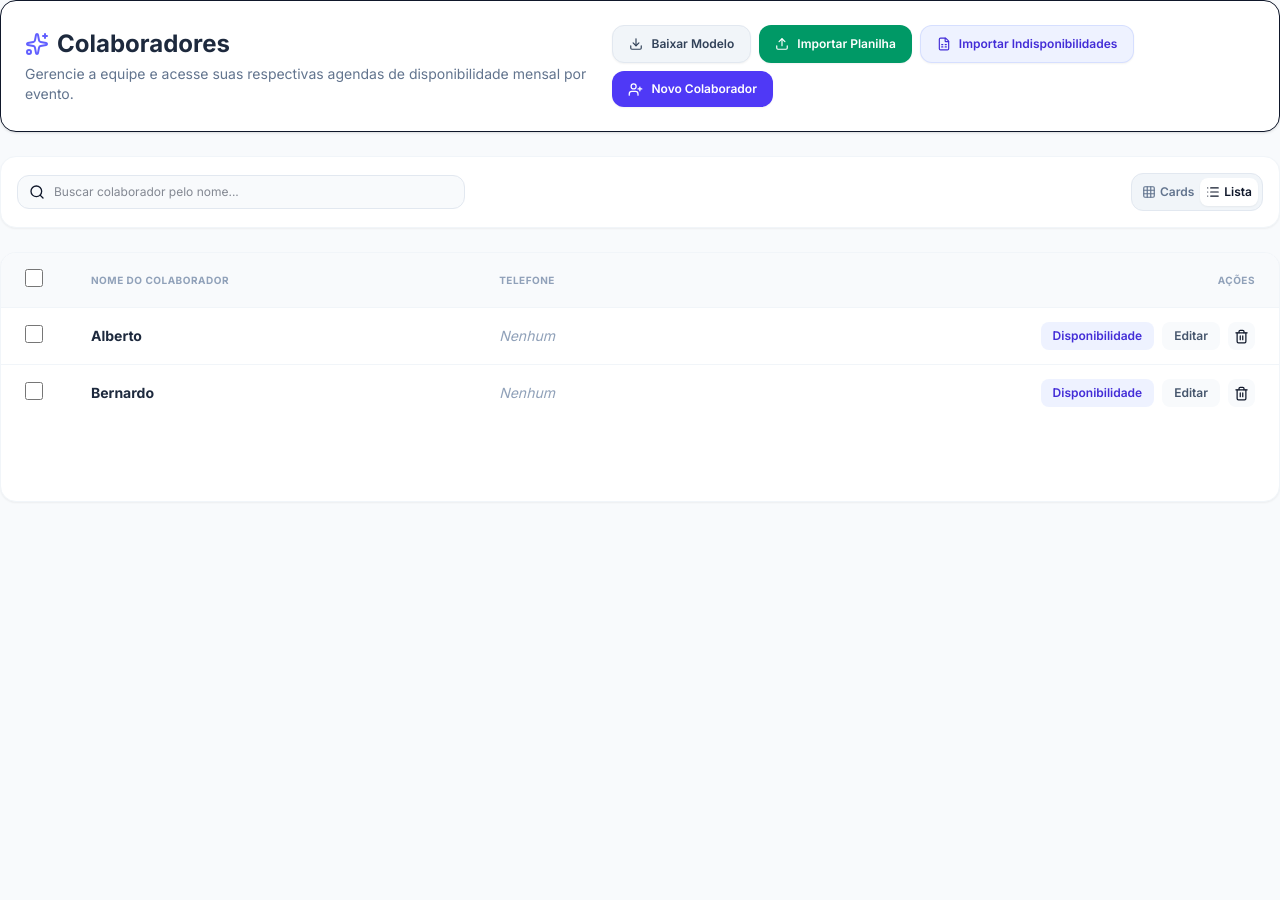
Colaboradores Component › deve ordenar cronologicamente os eventos no modal de edicao em lote na aba disponibilidade
Click the checkbox next to "Nome do Colaborador" at (34, 278), box [25,269,43,287]
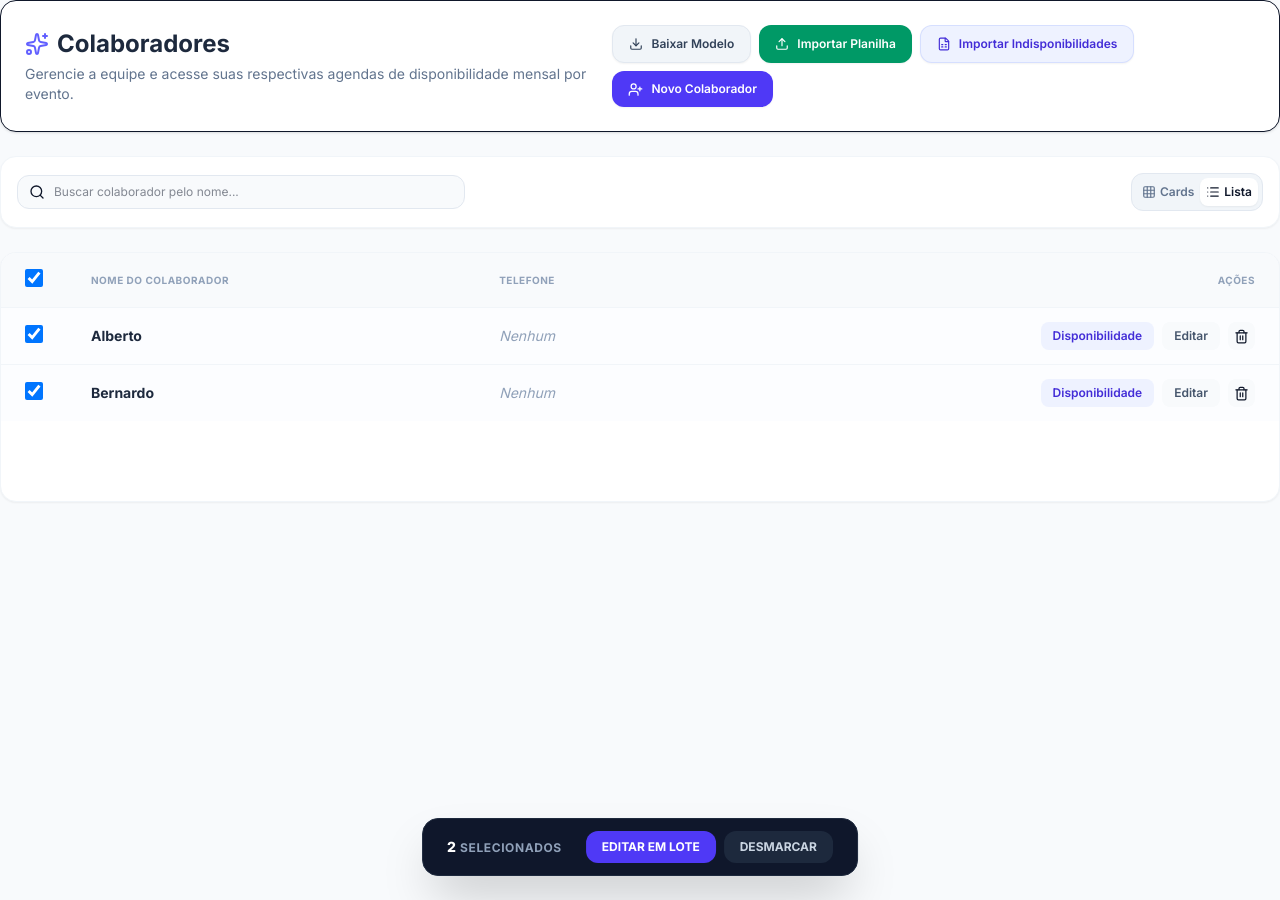
# Abrir modal de edição em lote
Click the button "Editar em Lote" at (651, 847), box [586,831,716,863]
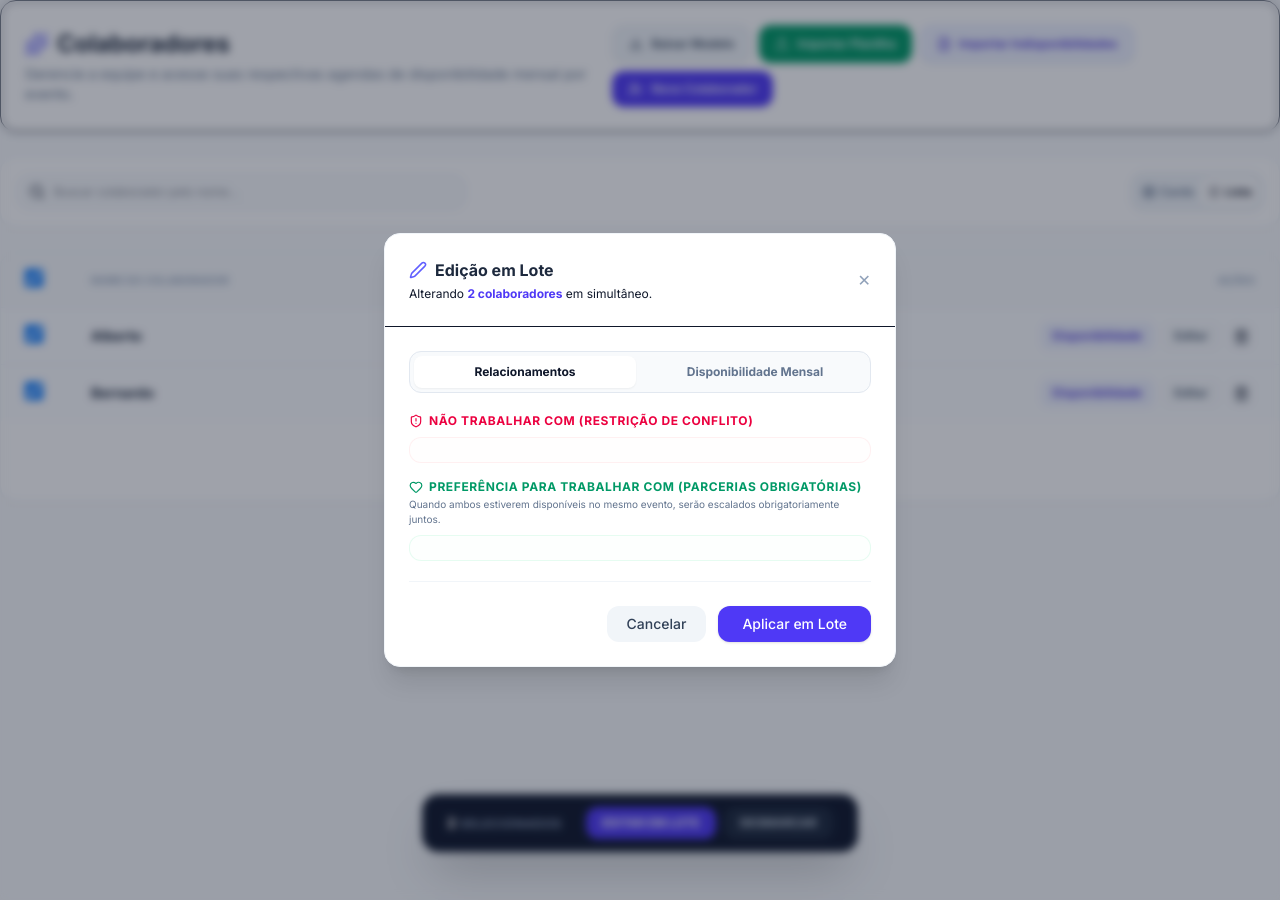
# Mudar para aba "Disponibilidade Mensal"
Click the button "Disponibilidade Mensal" at (755, 372), box [644,356,866,388]
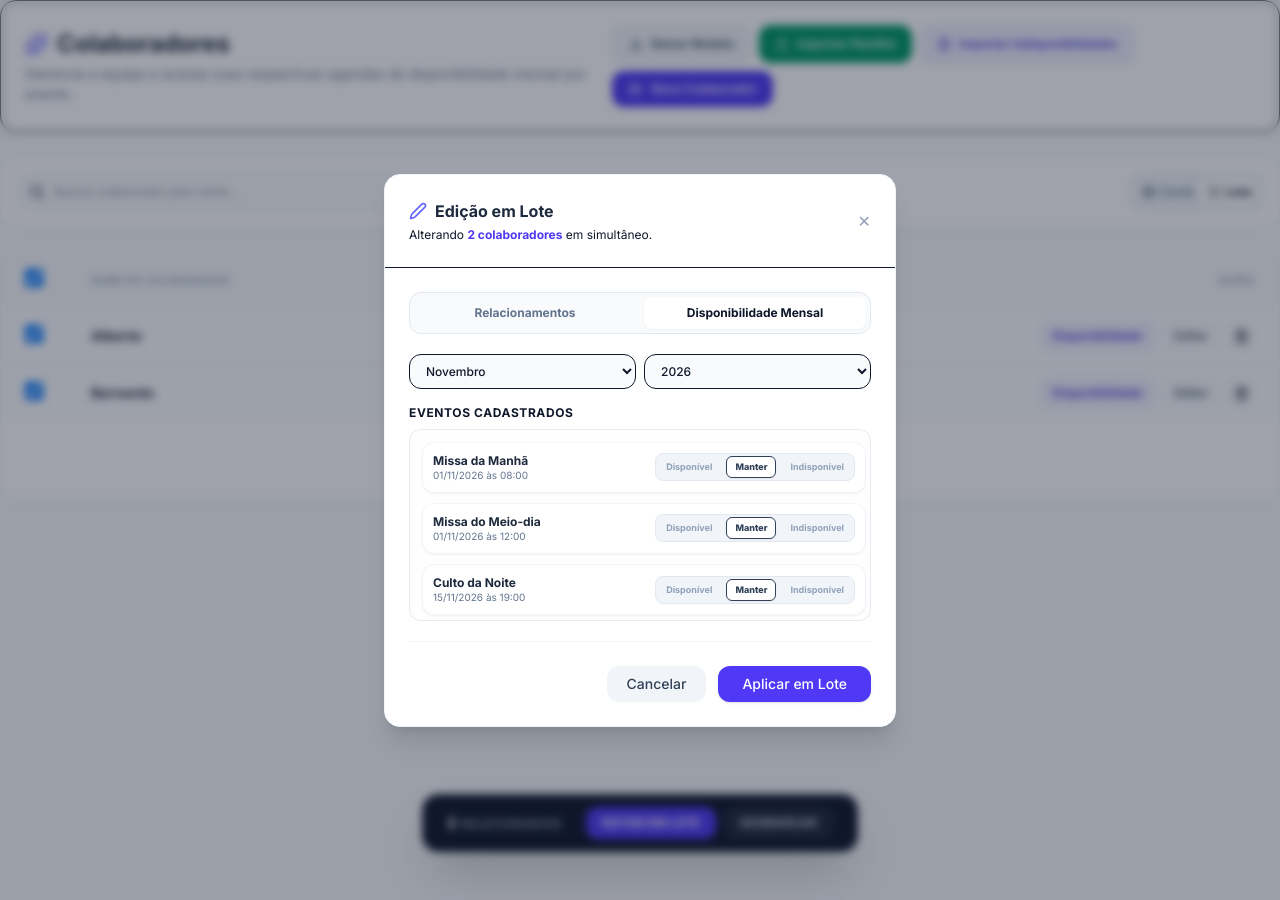
Now the text "Missa da Manhã" is shown, box [433,452,528,468]
Now the text "Missa do Meio-dia" is shown, box [433,514,541,529]
Now the text "Culto da Noite" is shown, box [433,575,516,590]
